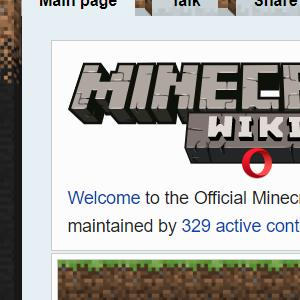opera: (242, 147, 272, 178)
